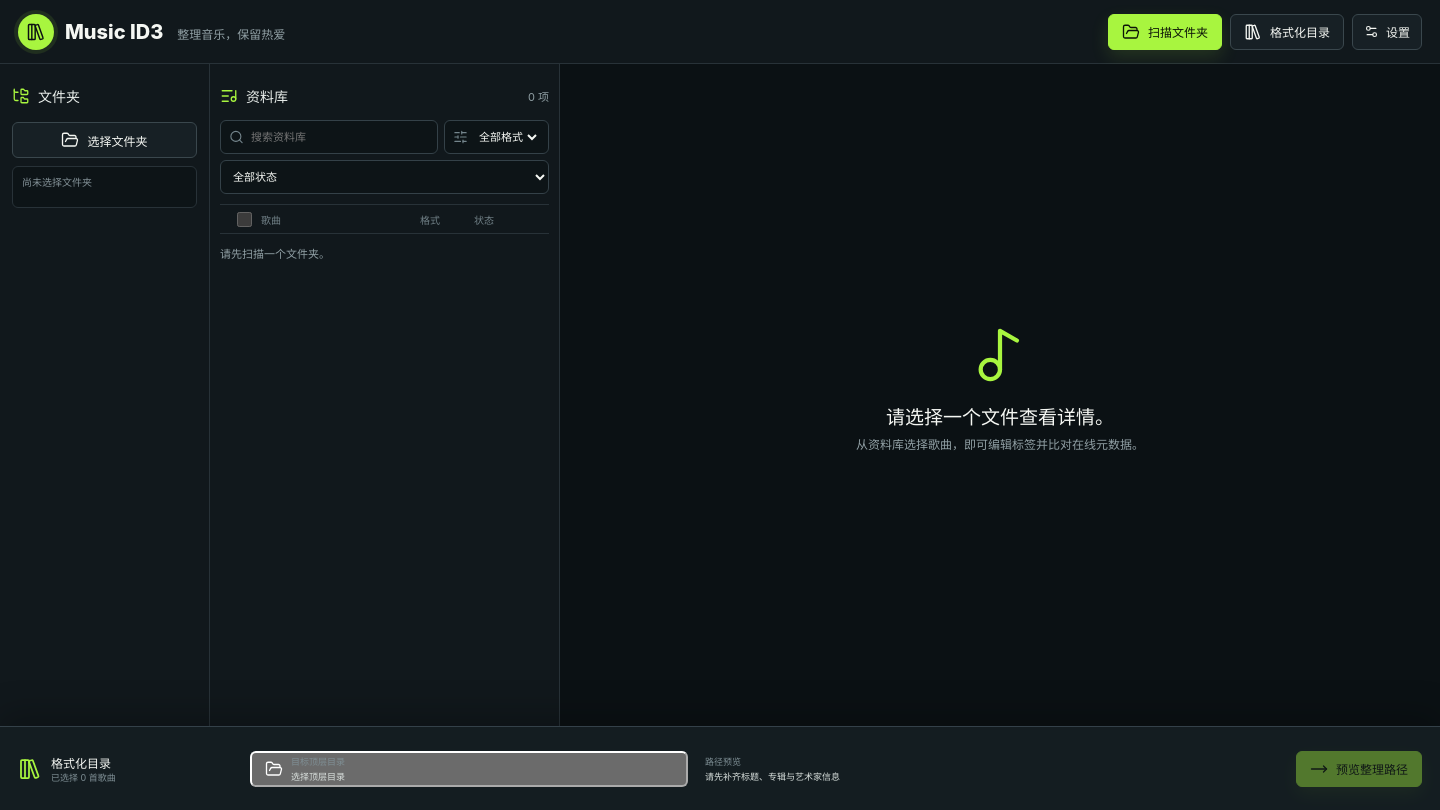
Test: library editing workflow › uses Chinese by default and persists an explicit language change
Expected: the button "扫描文件夹" is shown, x1=1108 y1=14 x2=1222 y2=50
Expected: the element "文件夹" is shown, x1=0 y1=64 x2=210 y2=726
Click the heading "设置" at x=1387, y=32, box x1=1352 y1=14 x2=1422 y2=50
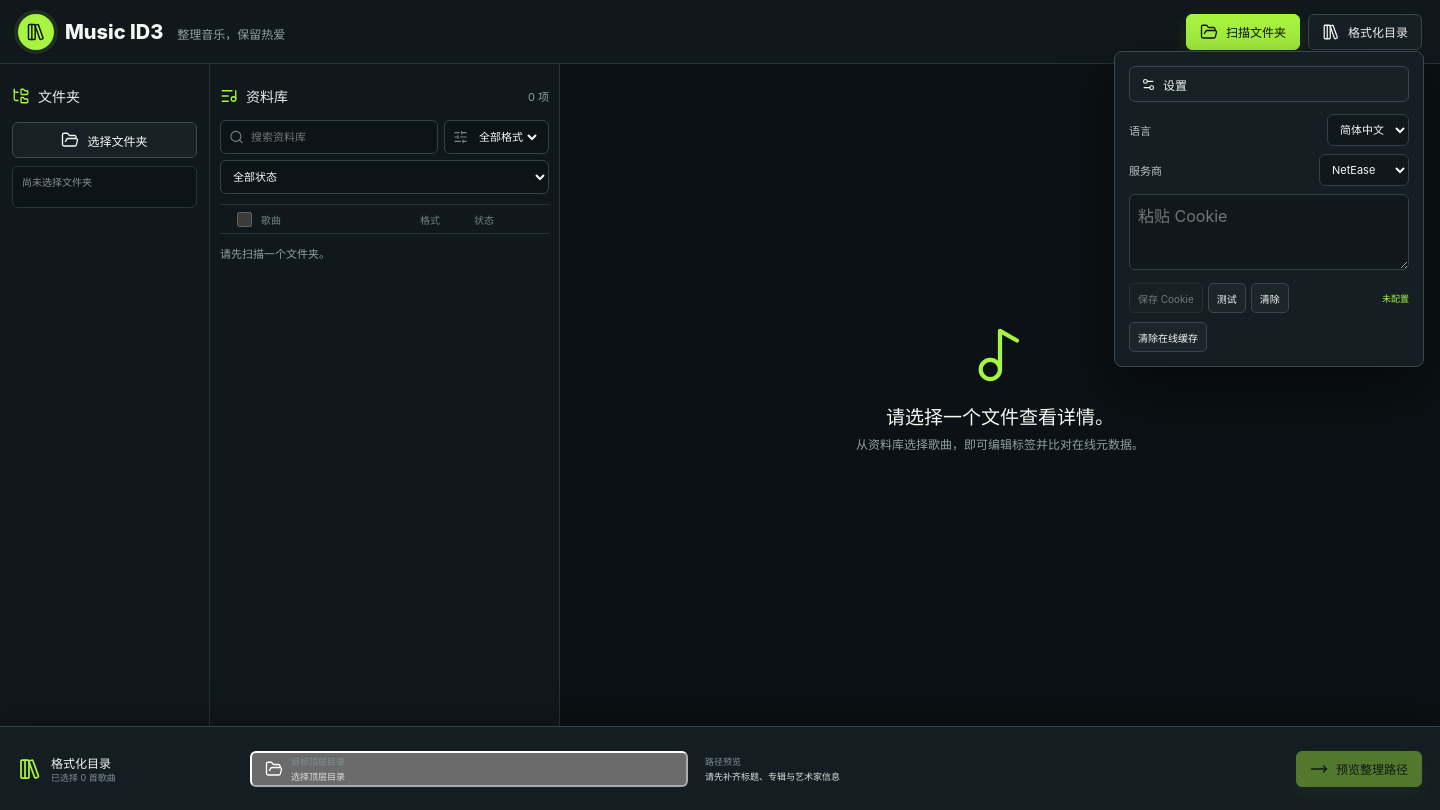
Select "English" in the dropdown labelled "语言" at x=1368, y=130, box x1=1327 y1=114 x2=1409 y2=146
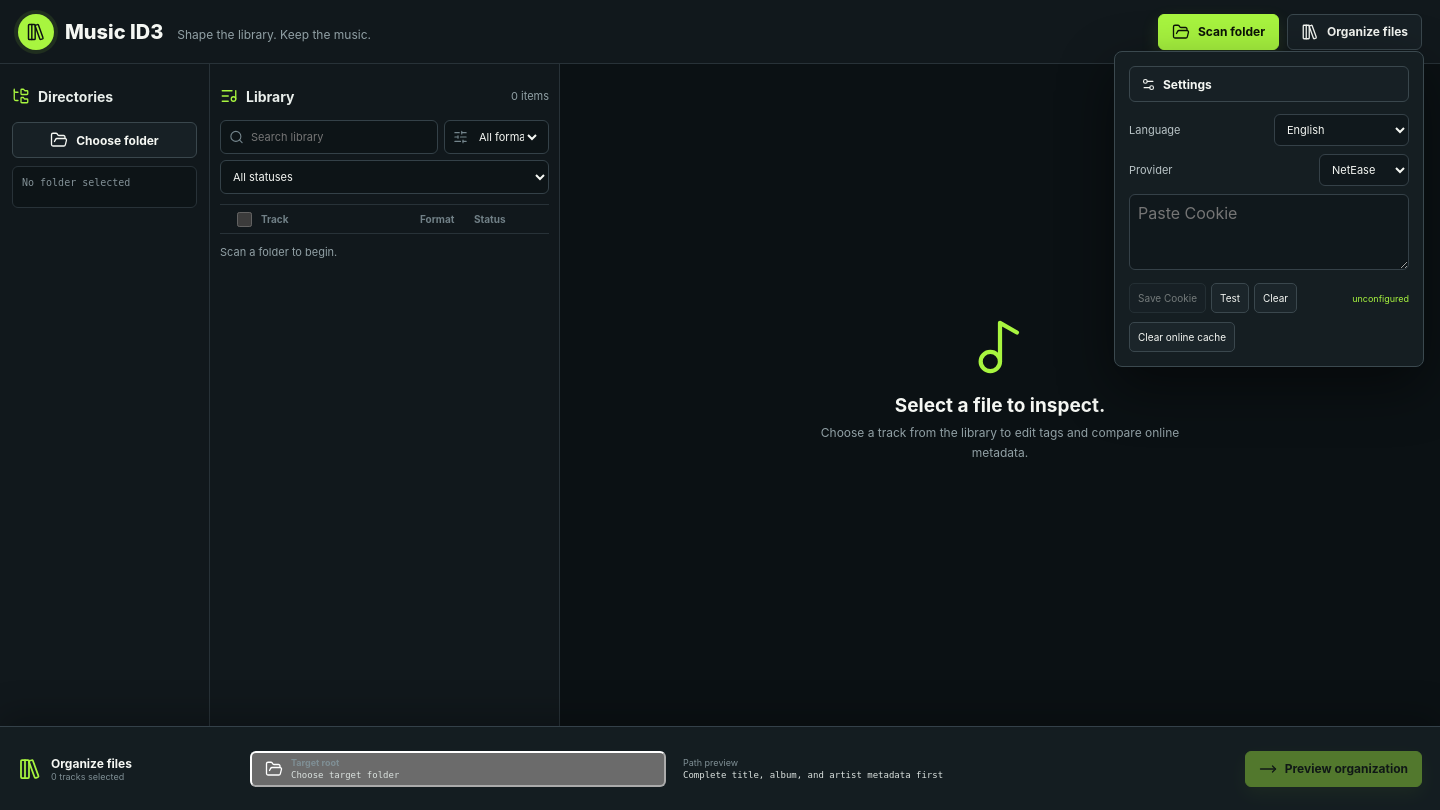
Result: the button "Scan folder" is shown at x1=1158 y1=14 x2=1279 y2=50
